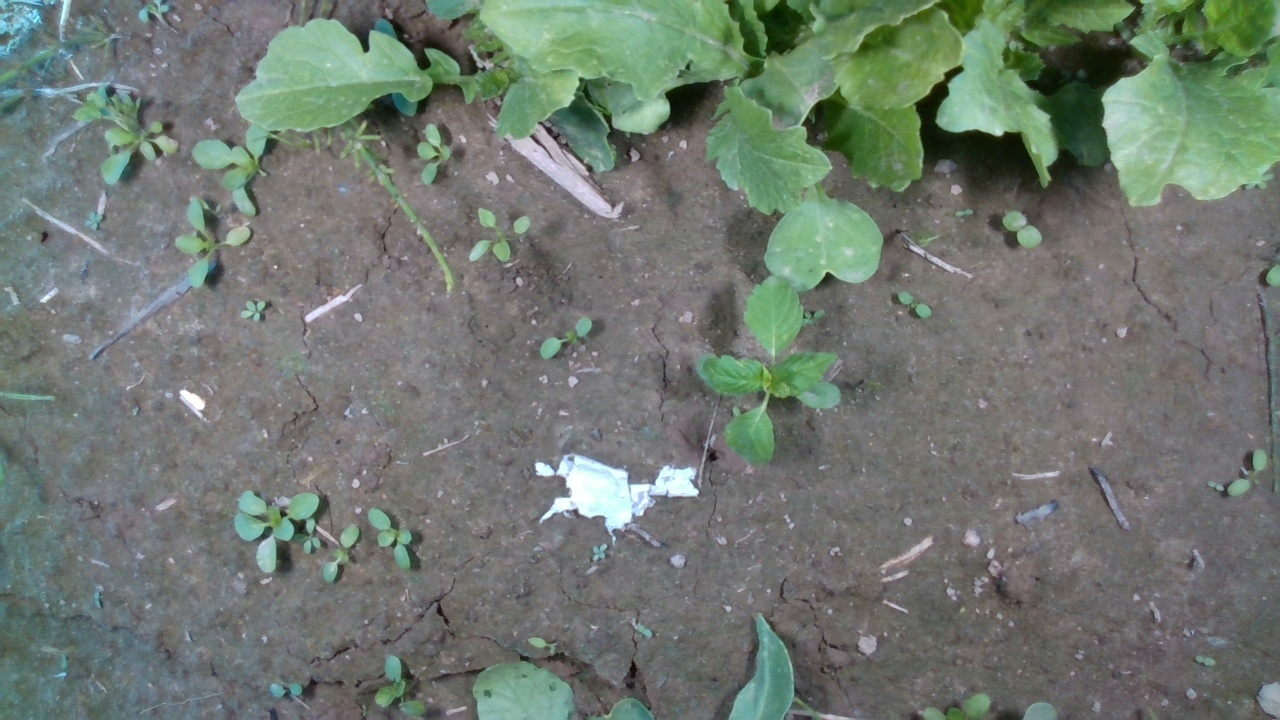weed: (466, 204, 530, 265), (367, 506, 414, 572), (414, 121, 454, 186), (538, 315, 593, 360), (322, 522, 360, 584), (1227, 448, 1266, 497), (1000, 209, 1043, 250), (898, 291, 934, 321), (238, 299, 266, 325), (527, 634, 559, 656), (266, 681, 302, 700), (82, 210, 104, 233), (591, 542, 607, 564), (1206, 479, 1225, 493), (953, 208, 975, 220)
